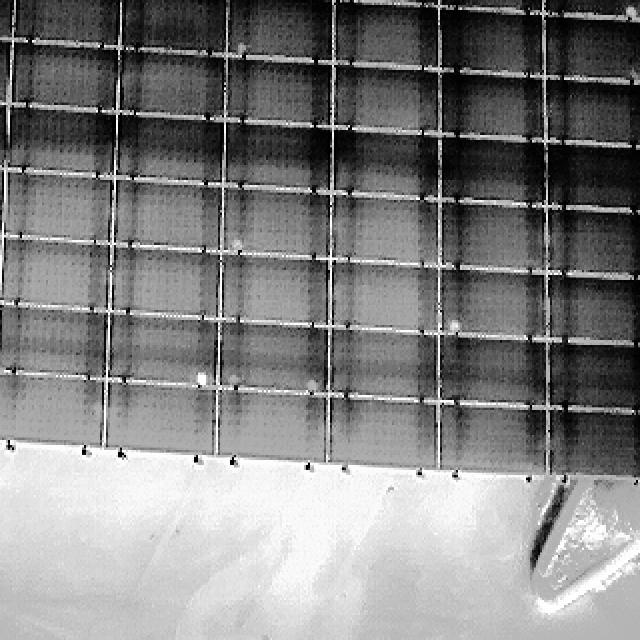Hotspots: (446, 308, 470, 337), (296, 378, 321, 398), (191, 366, 215, 385), (623, 0, 640, 21), (227, 236, 244, 256)
PV-modules: (100, 378, 220, 454), (112, 178, 225, 255), (218, 318, 332, 394), (103, 312, 216, 388), (1, 169, 117, 243), (215, 388, 331, 462), (105, 244, 218, 319), (330, 326, 444, 400), (324, 395, 441, 467), (0, 302, 110, 378), (113, 45, 226, 118), (436, 400, 550, 472), (111, 112, 225, 184), (0, 235, 114, 307), (6, 102, 118, 175), (0, 370, 108, 445), (330, 259, 444, 330), (438, 333, 550, 405), (218, 186, 330, 258), (221, 119, 331, 192), (8, 41, 121, 112), (217, 254, 330, 325), (332, 196, 444, 267), (438, 266, 550, 337), (438, 202, 548, 274), (334, 125, 444, 197), (332, 62, 443, 133), (222, 54, 332, 125), (438, 72, 548, 141), (334, 3, 444, 72), (437, 9, 545, 78), (439, 135, 546, 204), (226, 0, 332, 65), (546, 73, 640, 145), (546, 209, 637, 281), (550, 342, 640, 414), (548, 275, 640, 345), (548, 140, 640, 210), (543, 16, 637, 84), (547, 406, 636, 476), (114, 0, 226, 52), (10, 0, 120, 45), (538, 0, 636, 20), (434, 0, 544, 12), (334, 0, 442, 8), (0, 33, 12, 105), (0, 95, 8, 167), (0, 0, 12, 38), (0, 160, 4, 235)
